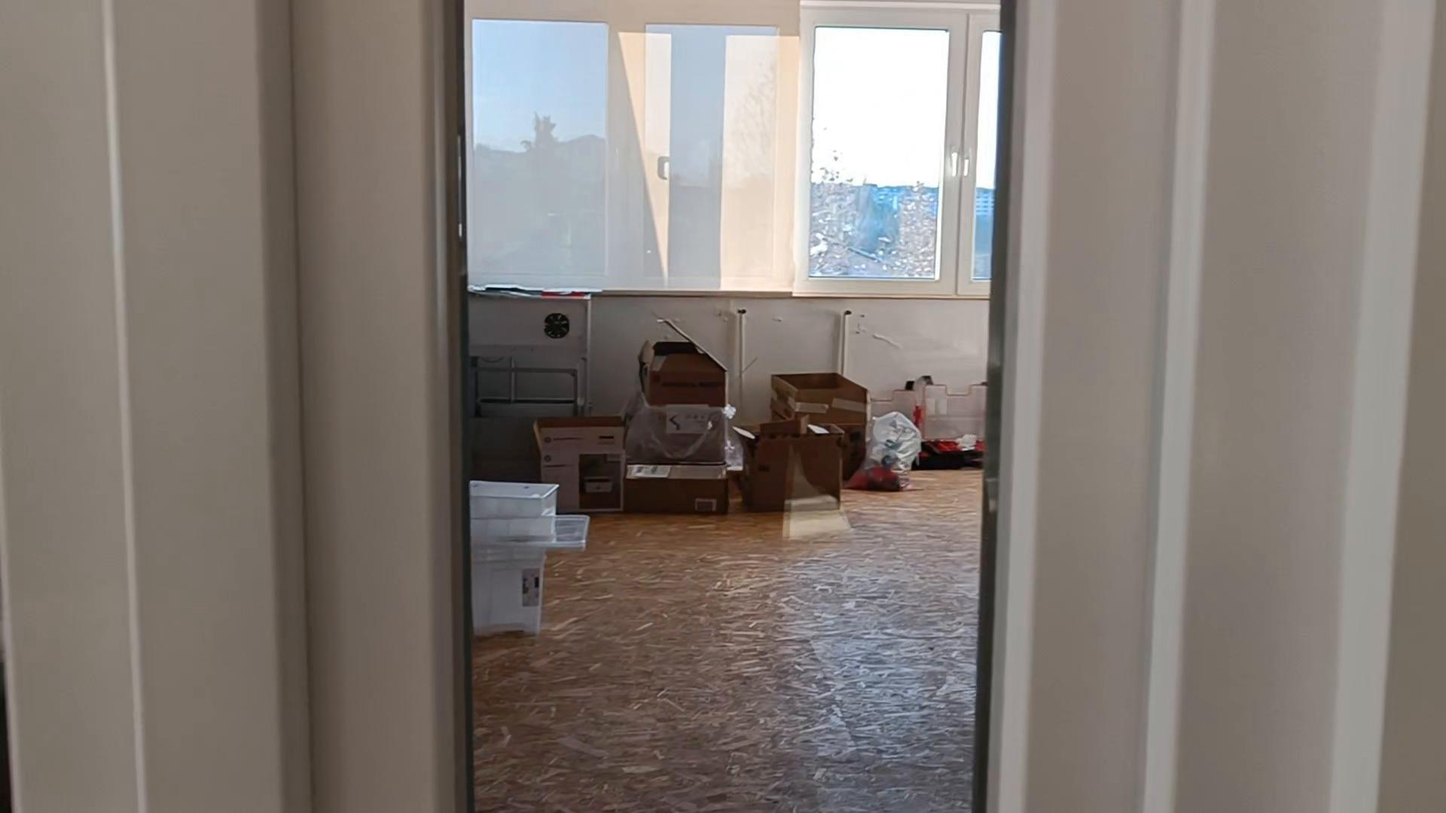floor: (473, 471, 980, 812)
